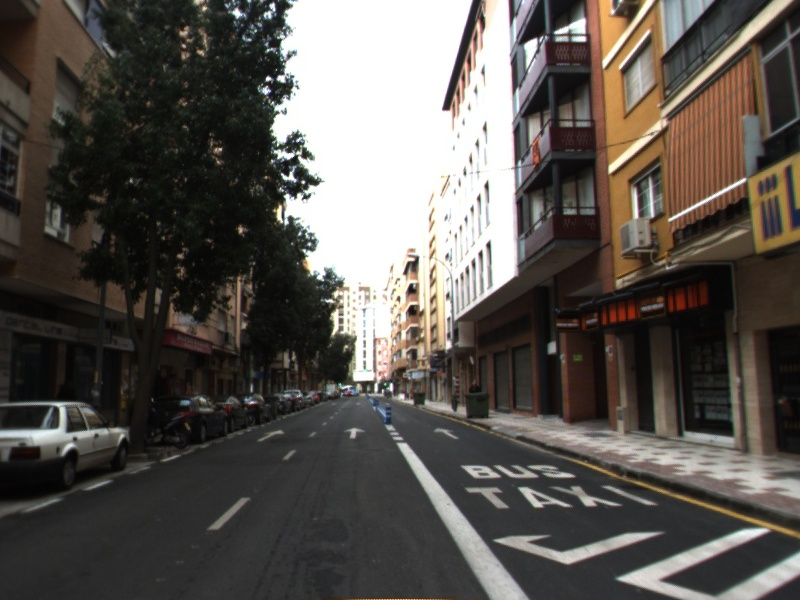STRAIGHT: (255, 428, 287, 444), (431, 425, 462, 441), (342, 425, 368, 441)
